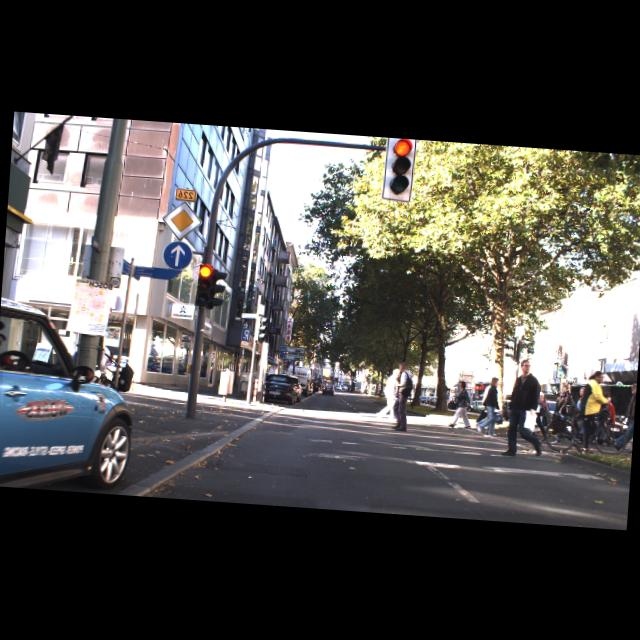mandatory: (163, 238, 194, 270)
other: (161, 198, 204, 240)
